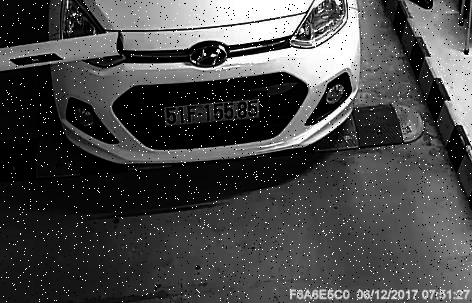License-plate: (149, 92, 268, 133)
